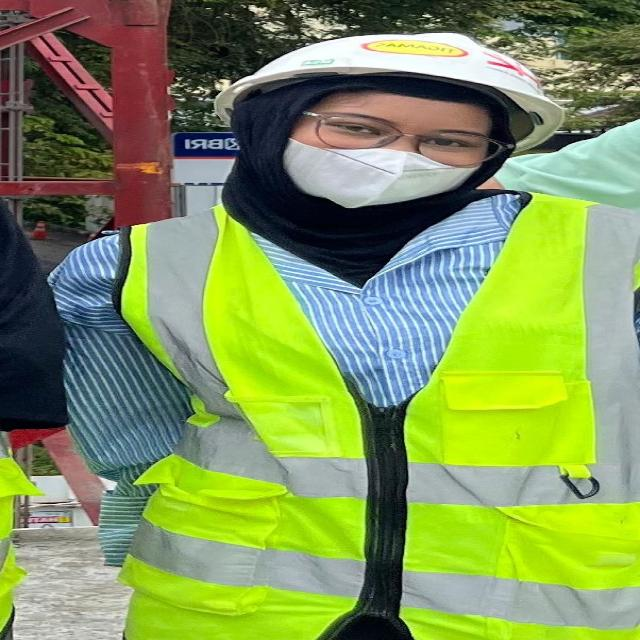safetyhelmet: (202, 32, 563, 208)
